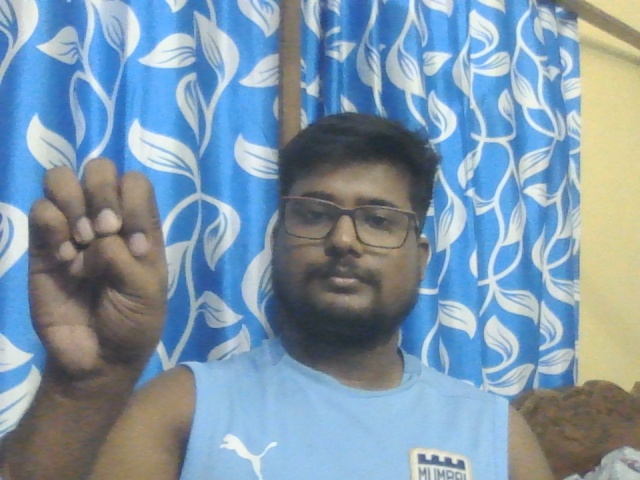E: (30, 157, 169, 371)
